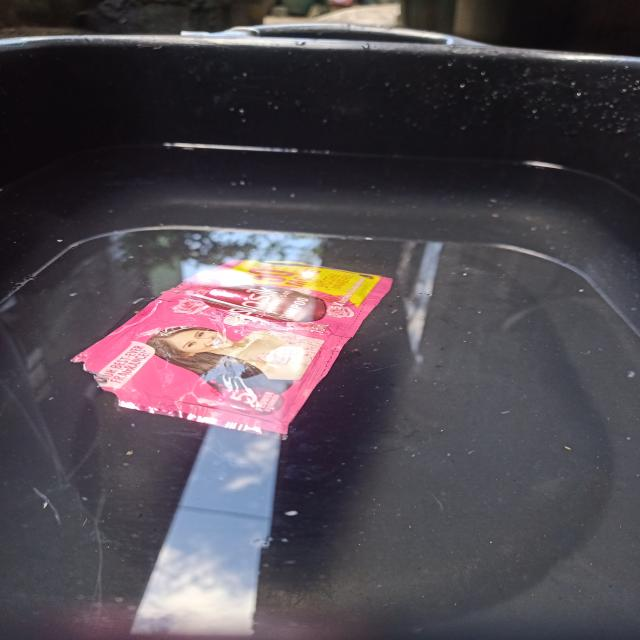Plastic Wrapper: (72, 260, 391, 435)
